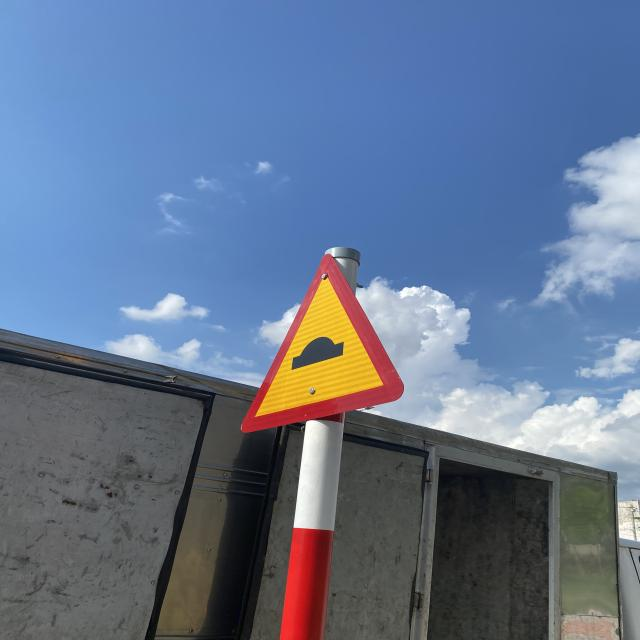Duong_Cong_Ben_Phai: (238, 255, 403, 436)
